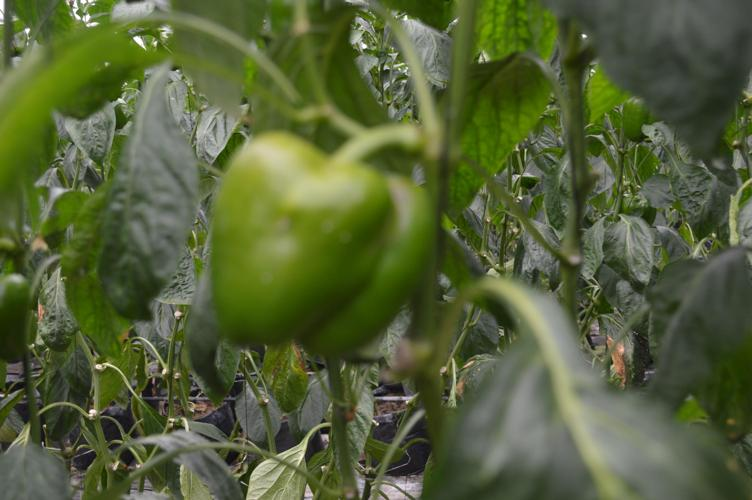BellPepper: (191, 129, 440, 367)
